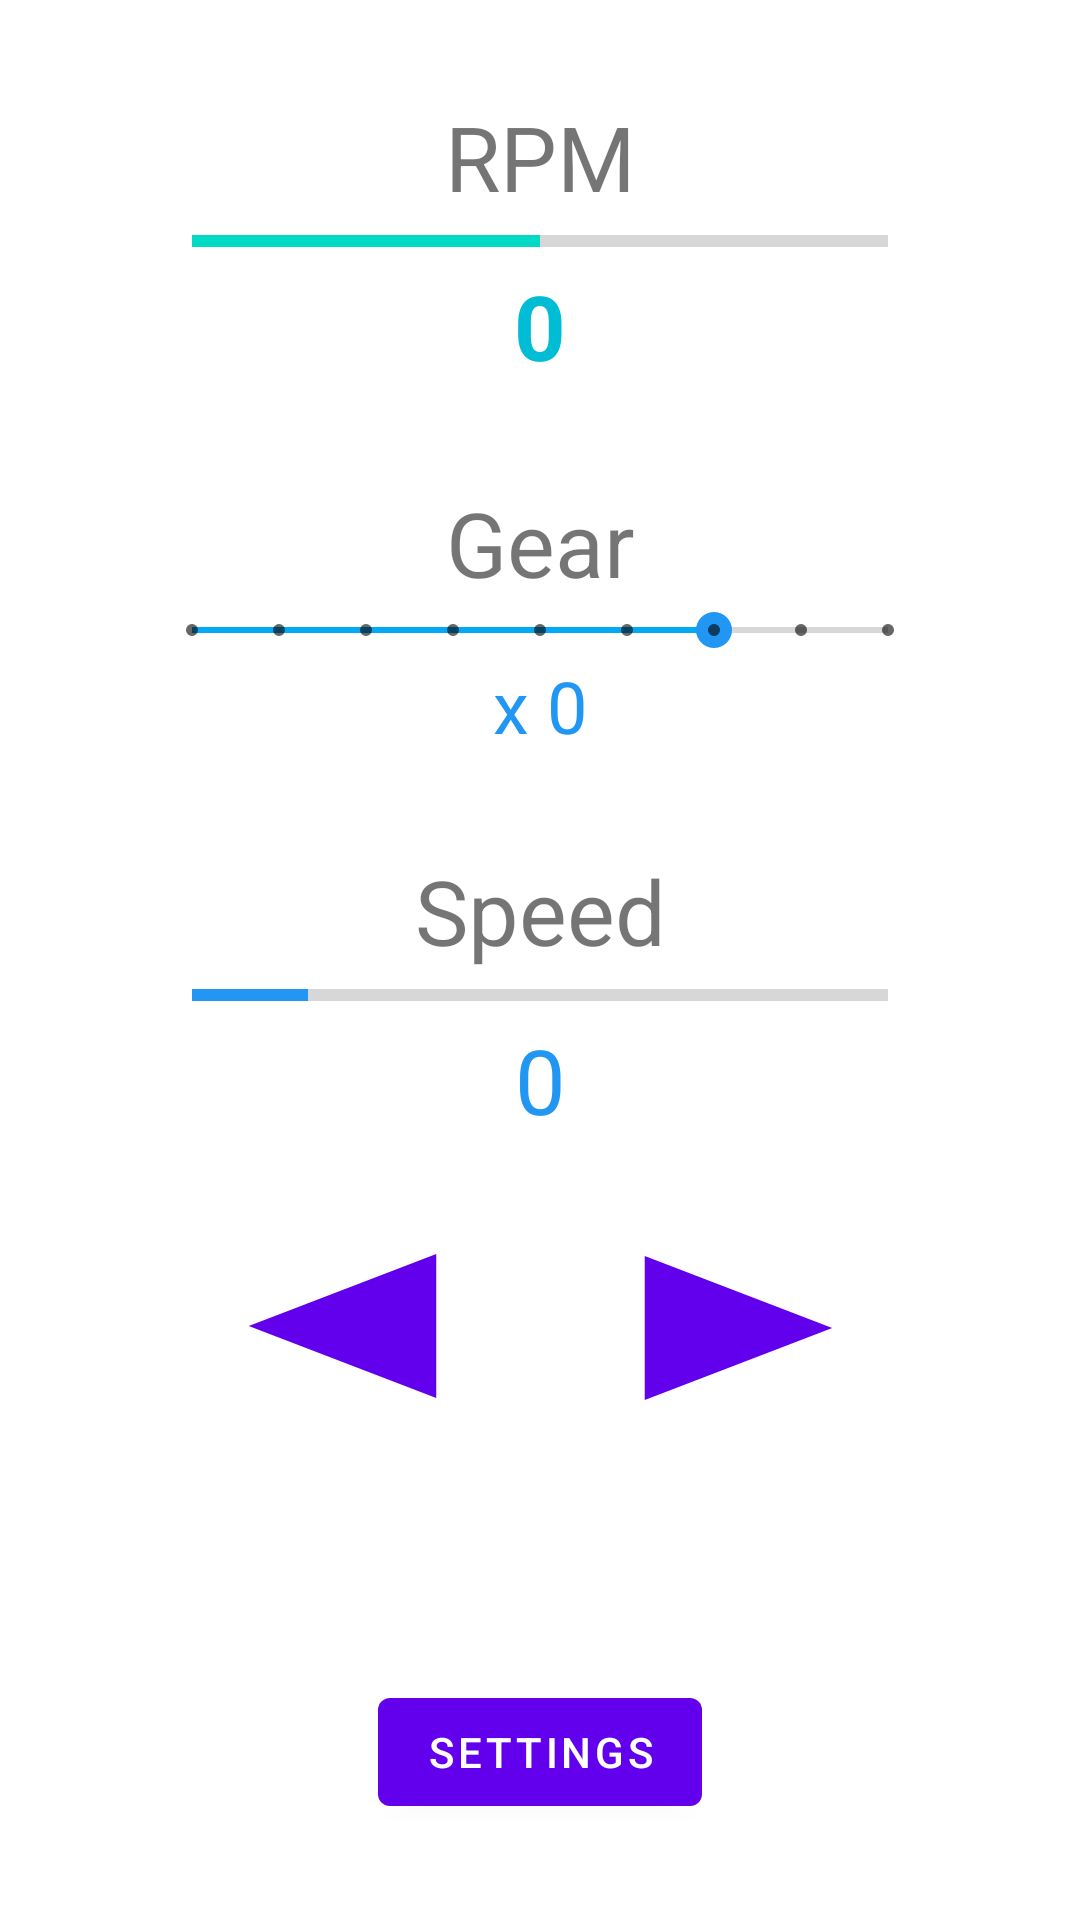

Locate icon controls on the screen. Image size 1080x1920, boxes as box=[x1, y1, x2, y2].
turn left button: box=[249, 1254, 437, 1398]
turn right button: box=[644, 1256, 832, 1400]
